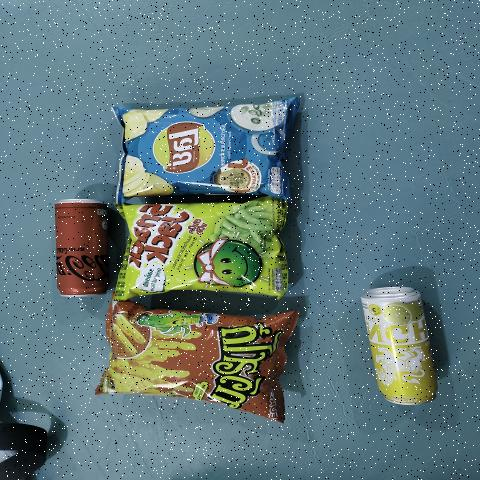coke_red: (57, 202, 104, 298)
lay_blue: (122, 108, 276, 194)
singha_yellow: (361, 283, 431, 406)
snack_jack: (127, 209, 278, 293)
twisco: (117, 304, 273, 410)
